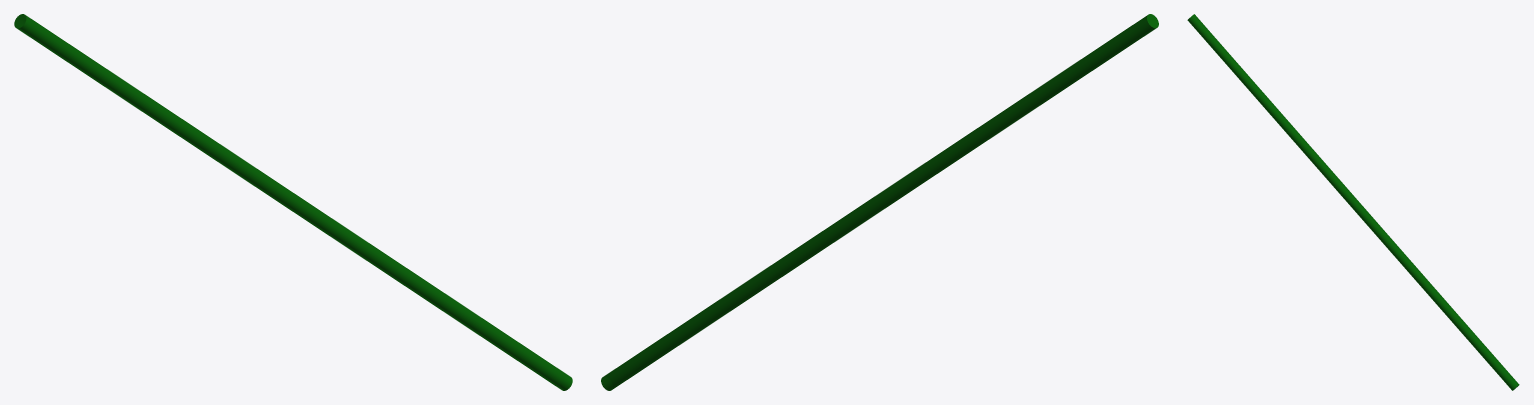
Rendered from Event_420604493_jet_1.fbx.
The picture shows the model from 3 angles, left to right: view 1: azimuth 30°, elevation 25°; view 2: azimuth 150°, elevation 25°; view 3: azimuth 330°, elevation 25°; orthographic projection. The views are drawn at different scales.
Parts seen in each view (by area): view 1: Model; view 2: Model; view 3: Model.
Part boxes in pixels (bbox=[...]): Model: bbox=[14, 14, 572, 390]; Model: bbox=[601, 14, 1158, 390]; Model: bbox=[1187, 14, 1519, 390].
Size of the model in its own units: 1.6 by 1.4 by 0.0563.
